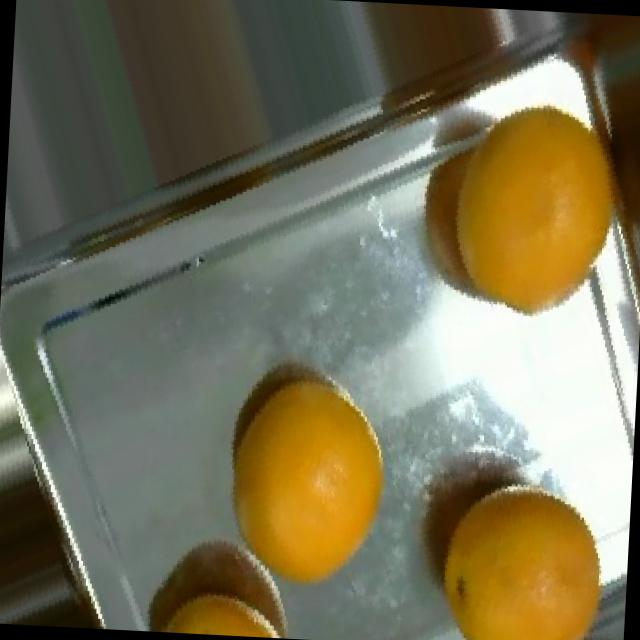Fruit: (425, 445, 629, 640), (130, 504, 312, 639)
